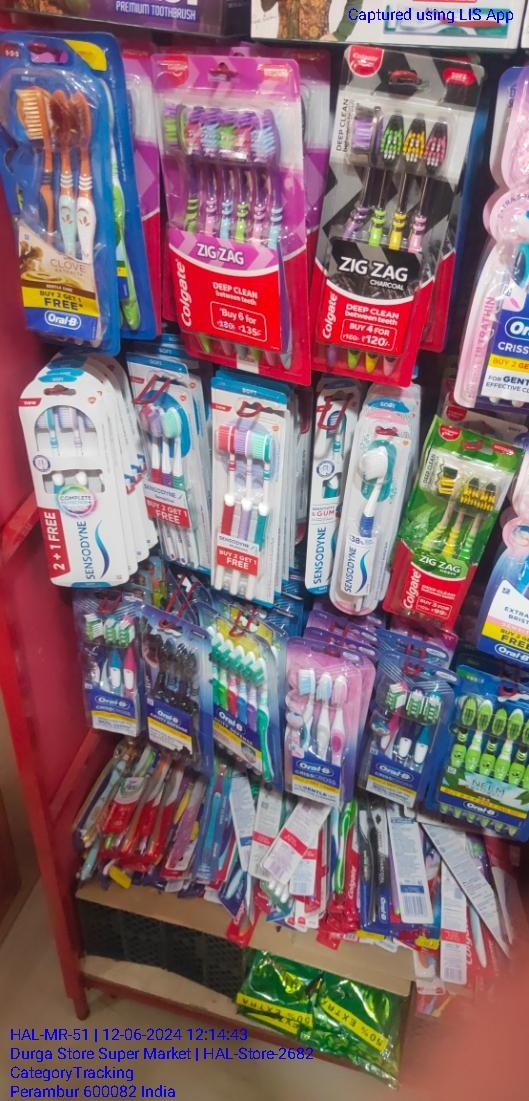4: (14, 378, 114, 588)
8: (208, 380, 275, 605)
liquid soap: (318, 37, 450, 390)
